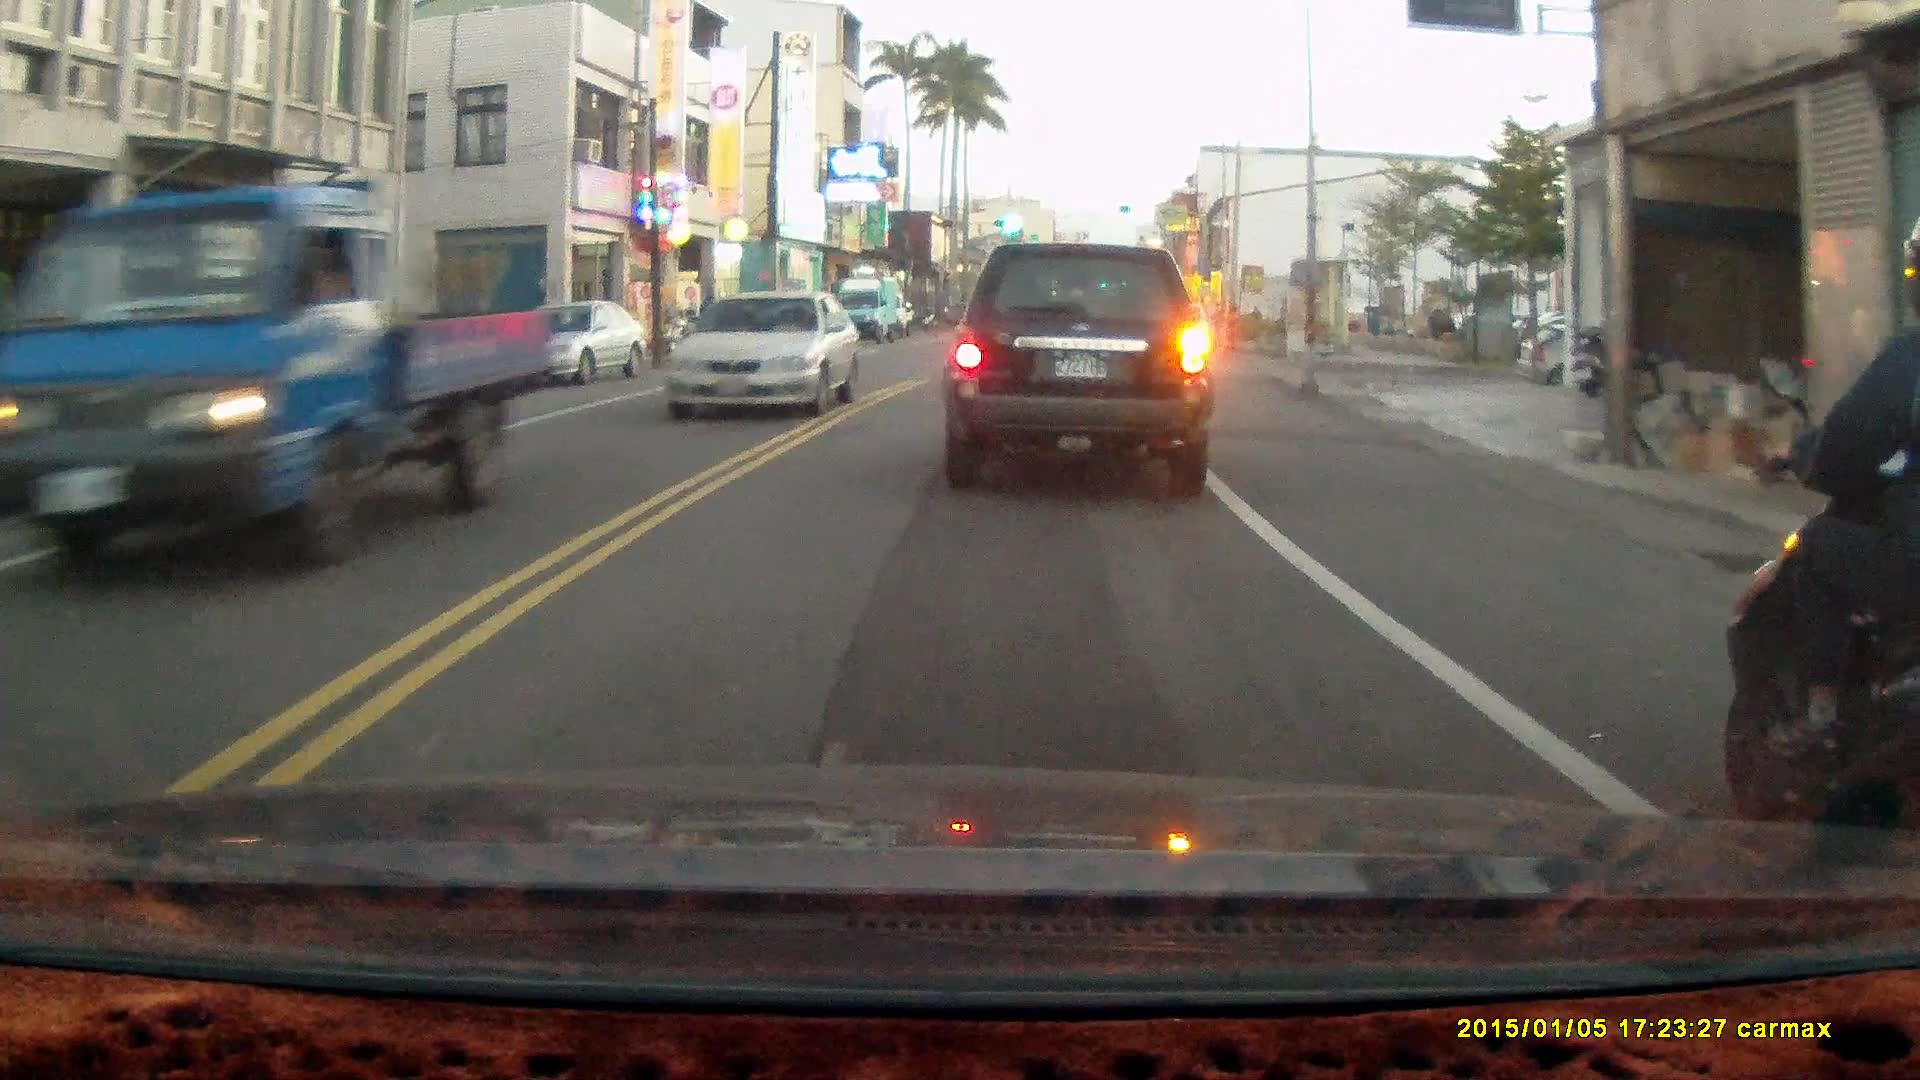rider: (1725, 223, 1920, 905)
vehicle: (1, 177, 534, 572), (939, 243, 1211, 492), (665, 290, 862, 422), (1511, 317, 1705, 397), (491, 297, 650, 389), (826, 272, 913, 344)
